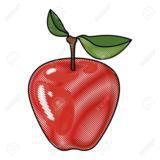apple: (27, 36, 120, 152)
